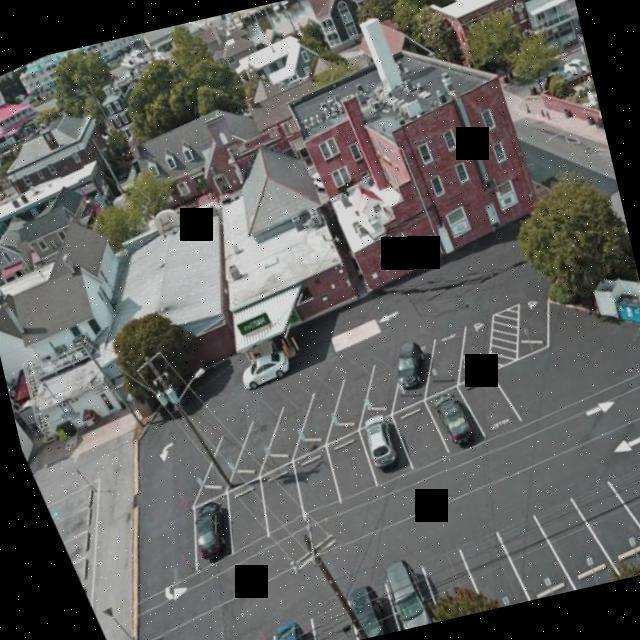space-empty: (527, 478, 625, 596), (492, 495, 584, 604), (453, 509, 540, 613), (571, 465, 640, 585), (210, 478, 290, 571), (409, 537, 494, 624), (388, 395, 459, 494), (315, 424, 388, 518), (284, 439, 353, 532), (249, 455, 317, 546), (456, 366, 526, 453), (412, 323, 486, 403), (448, 310, 514, 385), (503, 286, 569, 359), (328, 359, 394, 429), (292, 379, 356, 447), (356, 353, 416, 425), (230, 414, 293, 480), (292, 592, 374, 640), (193, 432, 257, 491), (612, 441, 640, 567), (268, 399, 320, 458)
space-occupied: (170, 487, 251, 584), (423, 373, 491, 471), (354, 404, 423, 500), (380, 329, 456, 415), (378, 556, 454, 632), (332, 569, 410, 640), (251, 615, 323, 640)
